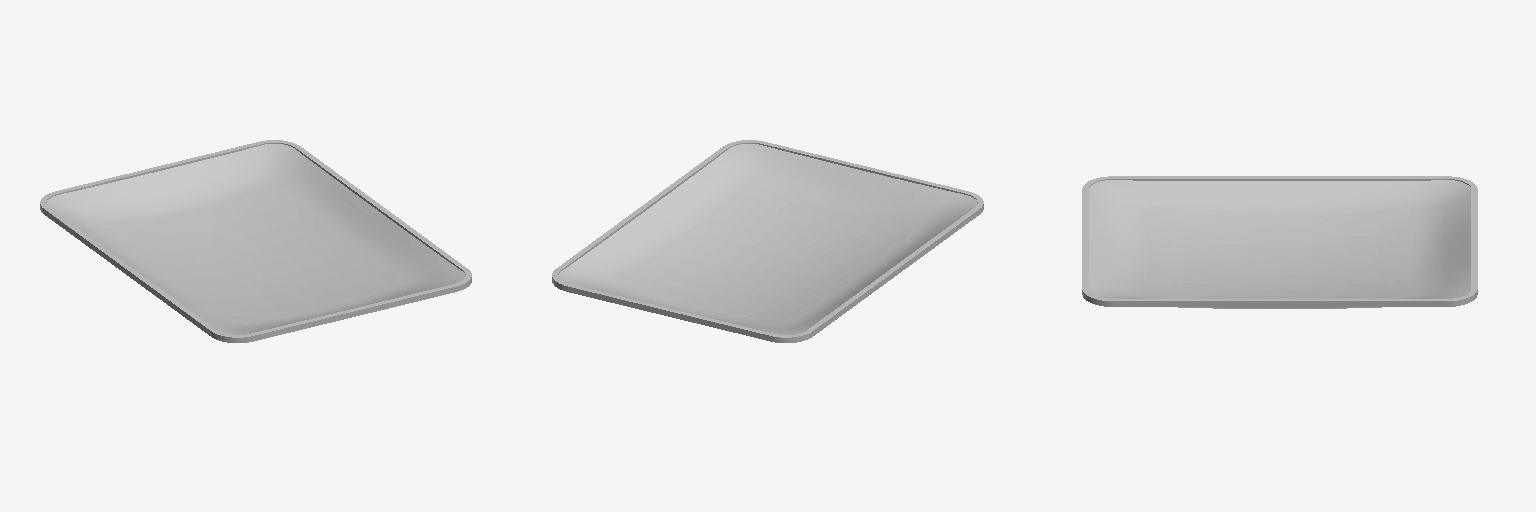
File: gelsight_r15_finger_gelpad_front_only_rot_z.obj
3 renders of one model, left to right at view 1: azimuth 30°, elevation 25°; view 2: azimuth 150°, elevation 25°; view 3: azimuth 270°, elevation 25°, orthographic.
Bounding box in the file's own units: 0.024 × 0.0031 × 0.032.